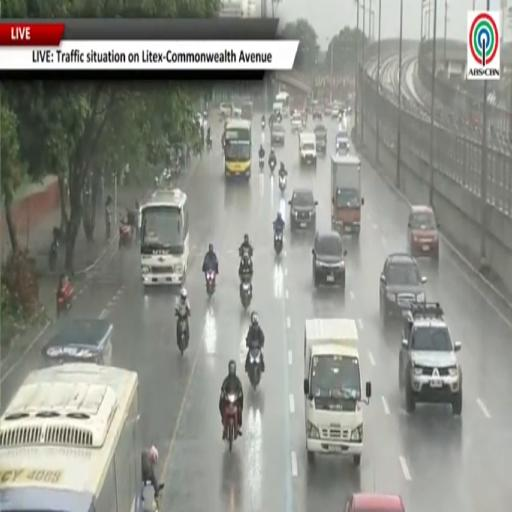bus: (0, 363, 143, 511), (141, 188, 189, 289), (225, 120, 251, 179), (242, 101, 253, 121)
car: (399, 302, 462, 415), (380, 252, 426, 324), (42, 318, 112, 365), (312, 231, 347, 291), (408, 205, 439, 261), (289, 188, 317, 232), (345, 493, 404, 511), (299, 132, 317, 168), (314, 124, 327, 154), (336, 130, 350, 154), (271, 123, 284, 146), (291, 112, 302, 132), (220, 103, 232, 117), (312, 105, 322, 121), (331, 104, 340, 118), (324, 104, 332, 115)
motorcycle: (223, 394, 238, 451), (142, 480, 164, 511), (57, 281, 73, 316), (248, 347, 261, 390), (176, 310, 188, 356), (240, 279, 252, 310), (119, 222, 133, 248), (49, 239, 58, 271), (206, 270, 215, 297), (274, 231, 282, 255), (239, 248, 253, 259), (106, 210, 111, 239), (279, 175, 286, 192), (154, 176, 160, 188), (270, 160, 276, 172), (207, 137, 212, 151), (259, 158, 264, 171), (261, 120, 265, 130), (302, 118, 306, 127)
truck: (304, 318, 371, 467), (331, 154, 364, 236)
